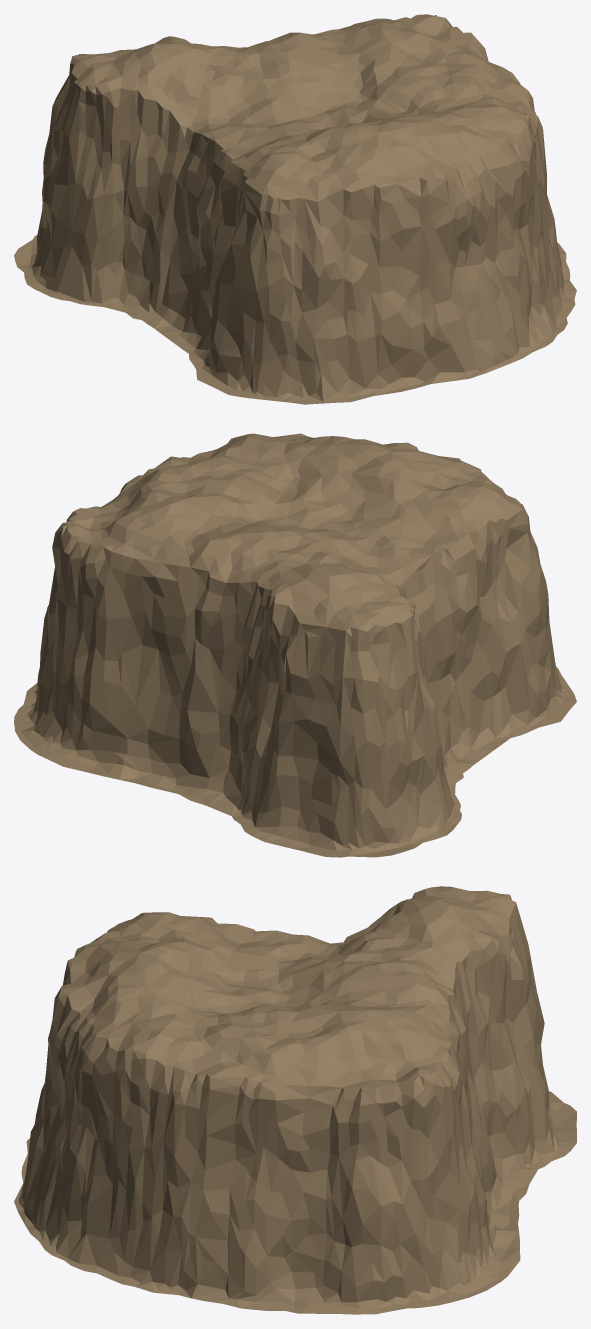
Rendered from LargeTerrain07.fbx.
3 renders of one model, top to bottom at view 1: azimuth 30°, elevation 25°; view 2: azimuth 150°, elevation 25°; view 3: azimuth 270°, elevation 25°, orthographic. The views are drawn at different scales.
Parts seen in each view (by area): view 1: LargeTerrain07; view 2: LargeTerrain07; view 3: LargeTerrain07.
Part boxes in pixels (x1,y1,x2,y2): LargeTerrain07: [14, 14, 576, 404]; LargeTerrain07: [14, 433, 576, 857]; LargeTerrain07: [14, 886, 576, 1314].
Bounding box in the file's own units: 106 × 49.45 × 106.
